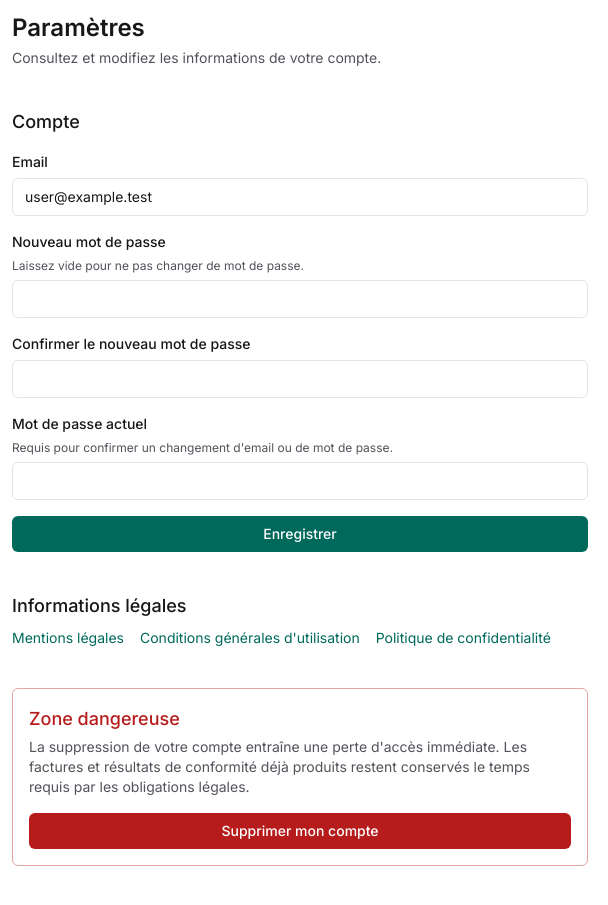
Test: SettingsForm › maps a wrong current_password error to the corresponding field
The width and height of the screenshot is (608, 905).
Replace the text in the field labelled "Email" with "new@example.test" at [300, 197], box [12,178,588,216]
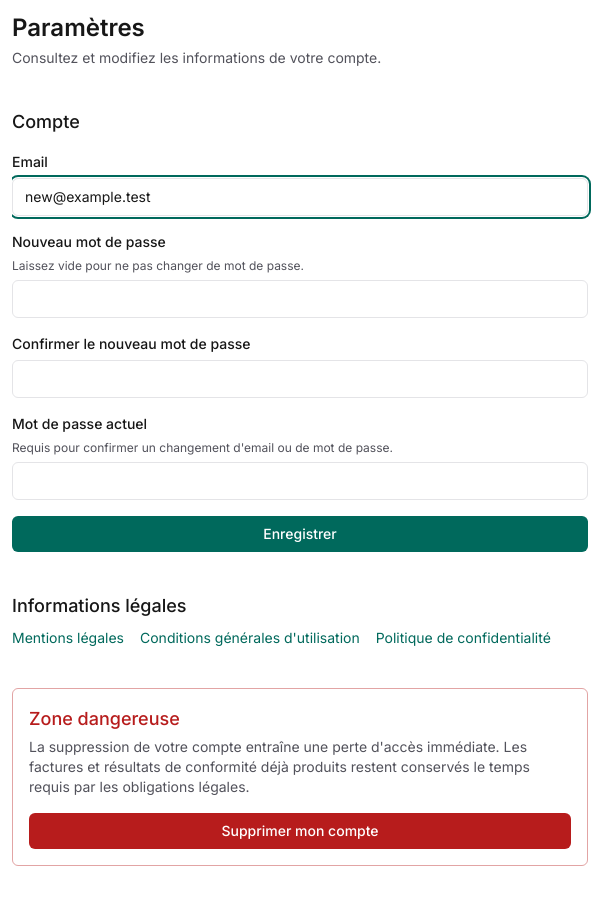
Type "wrong-password" into the password field labelled "Mot de passe actuel" at [300, 481], box [12,462,588,500]
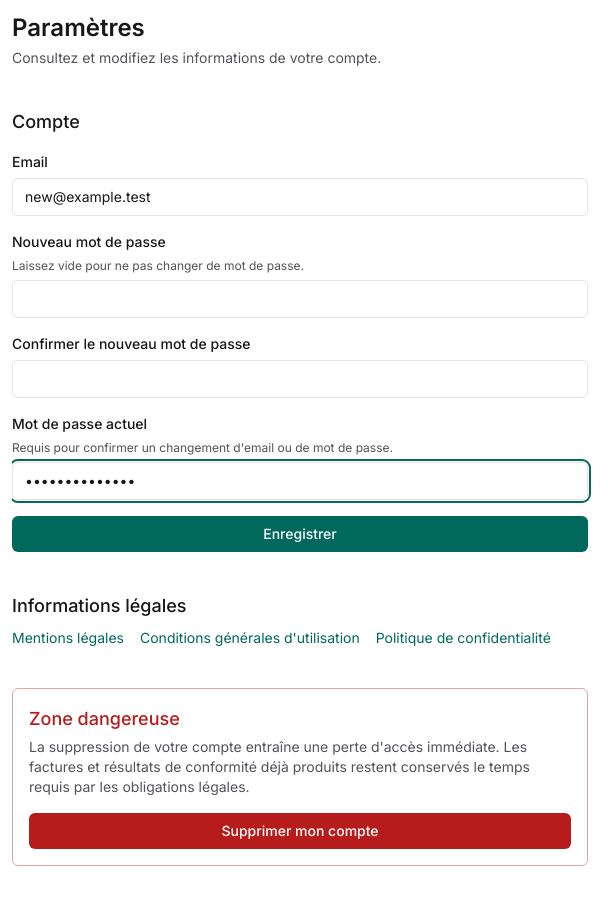
Click the button "Enregistrer" at [300, 534], box [12,516,588,552]
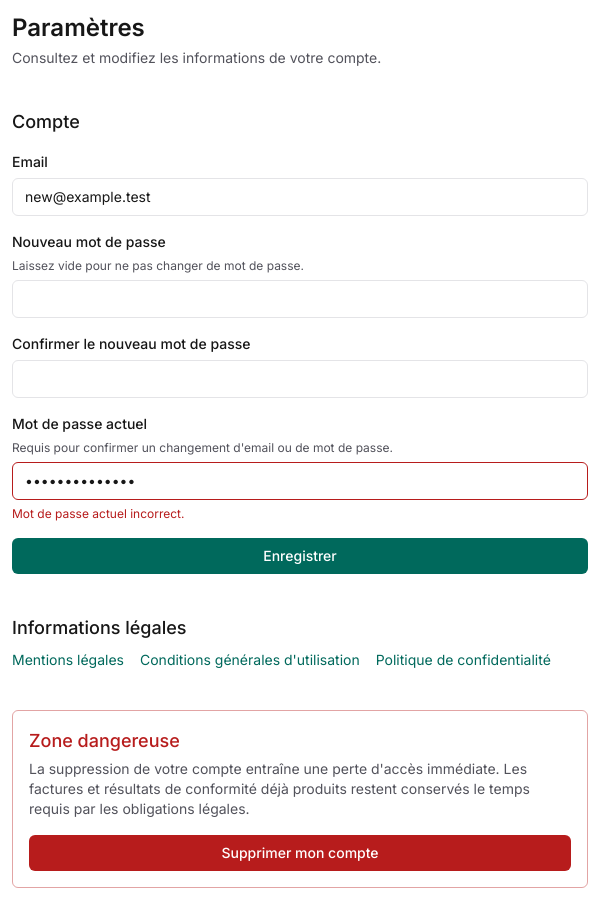
Expected: the text "Mot de passe actuel incorrect." is shown, [12,506,184,521]
